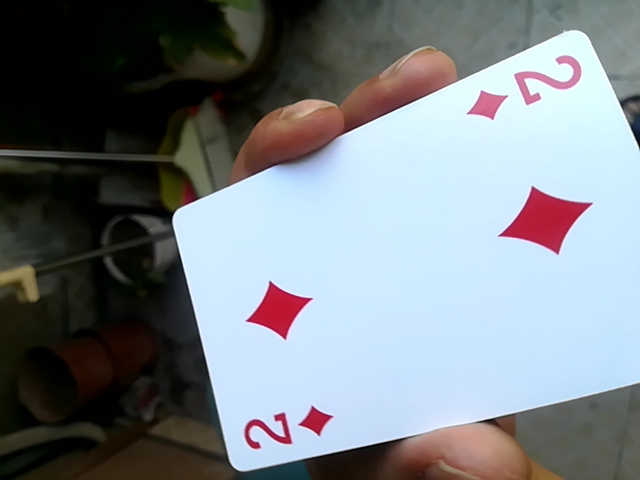fk 2: (169, 41, 637, 476)
